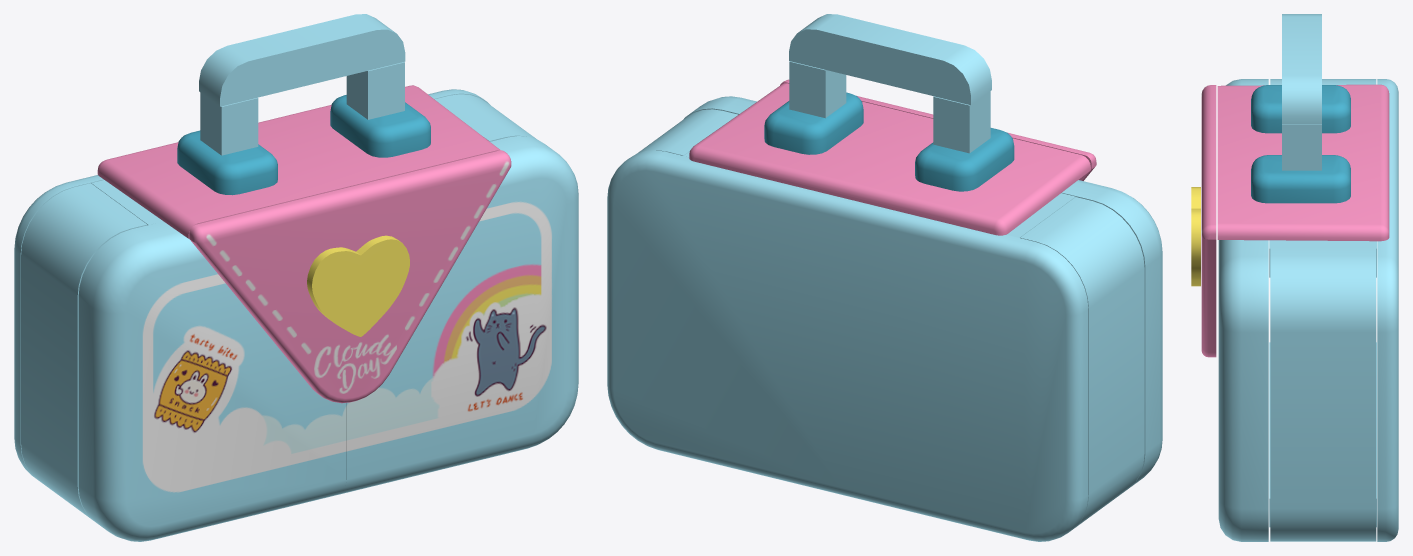
File: level_4.fbx
The picture shows the model from 3 angles, left to right: view 1: azimuth 30°, elevation 25°; view 2: azimuth 150°, elevation 25°; view 3: azimuth 270°, elevation 25°; orthographic projection. The views are drawn at different scales.
Visible parts, largest first — view 1: Cube.002, Cube, Cube.012, Cube.003, Cube.013, Cube.017, Cube.025, Cube.016, Cube.015, Cube.019, Cube.018, Cube.010 (+2 smaller); view 2: Cube.010, Cube.011, Cube.013, Cube.003, Cube.017, Cube.002, Cube.016, Cube.015, Cube.019, Cube.018, Cube.004, Cube.012 (+2 smaller); view 3: Cube.004, Cube.013, Cube, Cube.011, Cube.017, Cube.012, Cube.015, Cube.016, Cube.018, Cube.014, Cube.010, Cube.025 (+3 smaller).
Part boxes in pixels (x1,y1,x2,y2): Cube.002: (78,221,346,541); Cube: (340,136,578,494); Cube.012: (189,150,511,403); Cube.003: (21,183,147,519); Cube.013: (97,85,500,238); Cube.017: (199,14,405,106); Cube.025: (307,235,409,336); Cube.016: (177,130,277,195); Cube.015: (330,95,430,157); Cube.019: (200,92,258,155); Cube.018: (346,62,404,119); Cube.010: (14,175,103,478); Cube.010: (839,199,1088,541); Cube.011: (607,150,847,494); Cube.013: (689,83,1090,235); Cube.003: (1020,197,1144,528); Cube.017: (789,14,991,105); Cube.002: (1062,180,1162,487); Cube.016: (915,128,1014,191); Cube.015: (764,92,863,154); Cube.019: (933,91,990,153); Cube.018: (789,61,846,118); Cube.004: (637,109,737,155); Cube.012: (780,79,1096,180); Cube.004: (1270,248,1376,541); Cube.013: (1217,84,1389,241); Cube: (1218,240,1268,541); Cube.011: (1377,171,1398,541); Cube.017: (1282,14,1321,124); Cube.012: (1201,85,1216,357); Cube.015: (1251,155,1350,203); Cube.016: (1251,85,1350,133); Cube.018: (1282,124,1321,170); Cube.014: (1269,240,1376,277); Cube.010: (1377,79,1398,181); Cube.025: (1191,187,1200,286).
Size of the model in its own units: 9.44 by 8.07 by 3.75.
